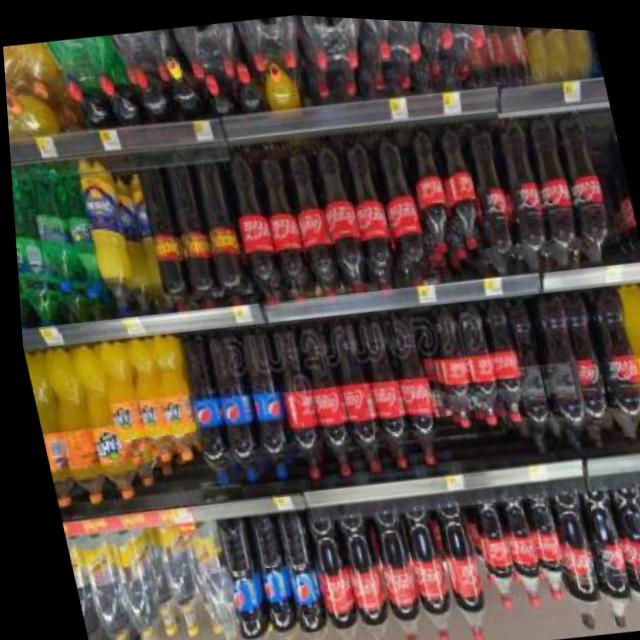Drinks: (454, 112, 523, 276), (67, 340, 136, 503), (36, 345, 104, 508), (337, 128, 403, 290), (550, 104, 616, 263), (292, 312, 355, 476), (220, 142, 284, 303), (550, 282, 612, 448), (200, 324, 264, 484), (276, 131, 338, 296), (323, 310, 385, 474), (350, 307, 413, 468), (578, 279, 640, 442), (380, 302, 442, 465), (491, 109, 553, 272), (263, 317, 325, 479), (231, 321, 294, 480), (170, 328, 233, 487), (307, 131, 369, 292), (250, 138, 312, 299), (522, 108, 584, 267), (9, 165, 64, 330), (369, 126, 429, 277), (537, 485, 599, 627), (571, 483, 631, 624), (207, 512, 271, 640), (427, 499, 485, 640), (267, 507, 328, 640), (20, 350, 71, 509), (392, 503, 450, 640), (298, 514, 361, 640), (362, 508, 422, 640), (332, 511, 392, 640), (21, 165, 79, 295), (239, 510, 296, 640), (140, 331, 196, 462), (400, 120, 456, 251), (429, 114, 484, 247), (90, 337, 146, 467), (474, 289, 526, 419), (449, 293, 501, 422), (423, 298, 475, 426), (53, 163, 101, 292), (119, 335, 167, 463), (464, 494, 514, 607), (491, 493, 541, 605), (602, 479, 640, 624), (517, 489, 565, 597), (9, 170, 31, 332), (631, 474, 640, 615)
